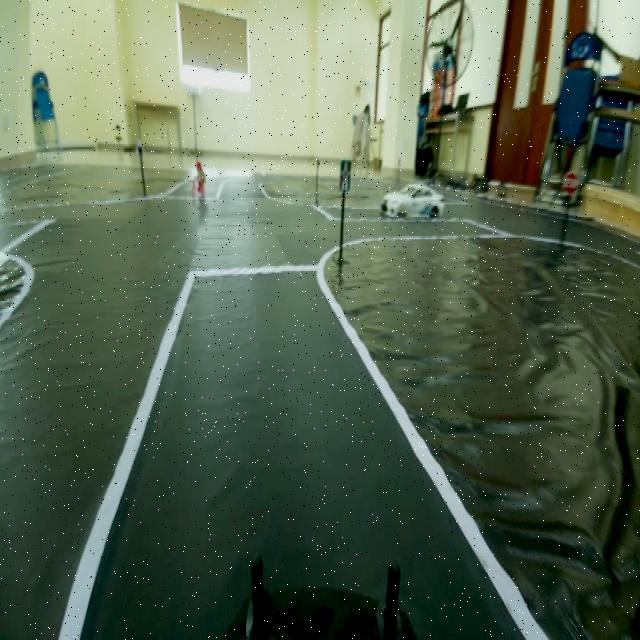highway_exit: (336, 156, 355, 193)
